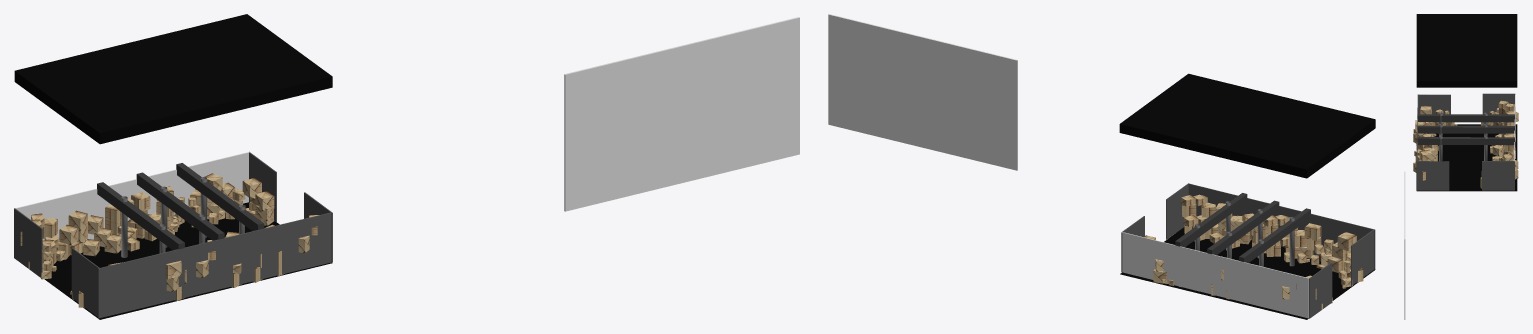
Rendered from Game Pieces box room.fbx.
3 renders of one model, left to right at view 1: azimuth 30°, elevation 25°; view 2: azimuth 150°, elevation 25°; view 3: azimuth 270°, elevation 25°, orthographic. The views are drawn at different scales.
Visible parts, largest first — view 1: Cube.185, Plane.006, Cube.057, Cube.058, Plane.005, Cube.060, Cube.101, Cube.100, Cube.099, Cube.055, Cube.063; view 2: Cube.185, Plane.006, Cube.058, Plane.005, Cube.057, Cube.060, Cube.055, Cube.100, Cube.099, Cube.101, Cube.062; view 3: Plane.006, Plane.005, Cube.063, Cube.062, Cube.100, Cube.099, Cube.101, Cube.055, Cube.060, Cube.185, Cube.154, Cube.048 (+3 smaller).
Part boxes in pixels (x1=…): Cube.185: x1=564, y1=17, x2=799, y2=211; Plane.006: x1=14, y1=14, x2=332, y2=144; Cube.057: x1=98, y1=212, x2=331, y2=318; Cube.058: x1=15, y1=152, x2=249, y2=240; Plane.005: x1=44, y1=202, x2=332, y2=319; Cube.060: x1=14, y1=208, x2=42, y2=277; Cube.101: x1=176, y1=163, x2=264, y2=231; Cube.100: x1=136, y1=172, x2=224, y2=240; Cube.099: x1=97, y1=182, x2=184, y2=250; Cube.055: x1=71, y1=248, x2=99, y2=316; Cube.063: x1=249, y1=151, x2=276, y2=221; Cube.185: x1=828, y1=14, x2=1017, y2=170; Plane.006: x1=1119, y1=73, x2=1375, y2=178; Cube.058: x1=1122, y1=232, x2=1308, y2=318; Plane.005: x1=1120, y1=227, x2=1375, y2=319; Cube.057: x1=1188, y1=183, x2=1375, y2=269; Cube.060: x1=1309, y1=262, x2=1332, y2=318; Cube.055: x1=1351, y1=229, x2=1374, y2=285; Cube.100: x1=1207, y1=200, x2=1279, y2=255; Cube.099: x1=1239, y1=208, x2=1310, y2=262; Cube.101: x1=1175, y1=193, x2=1247, y2=247; Cube.062: x1=1166, y1=183, x2=1188, y2=239; Plane.006: x1=1416, y1=14, x2=1517, y2=87; Plane.005: x1=1416, y1=124, x2=1517, y2=191; Cube.063: x1=1482, y1=161, x2=1514, y2=190; Cube.062: x1=1416, y1=161, x2=1449, y2=190; Cube.100: x1=1417, y1=125, x2=1514, y2=133; Cube.099: x1=1417, y1=114, x2=1514, y2=122; Cube.101: x1=1417, y1=137, x2=1514, y2=145; Cube.055: x1=1418, y1=94, x2=1450, y2=114; Cube.060: x1=1482, y1=93, x2=1515, y2=114; Cube.185: x1=1404, y1=171, x2=1405, y2=319; Cube.154: x1=1419, y1=150, x2=1432, y2=161; Cube.048: x1=1492, y1=145, x2=1504, y2=156.
Size of the model in its own units: 52411 by 13551 by 12693.
Materials: 18 (1 with a texture image).
